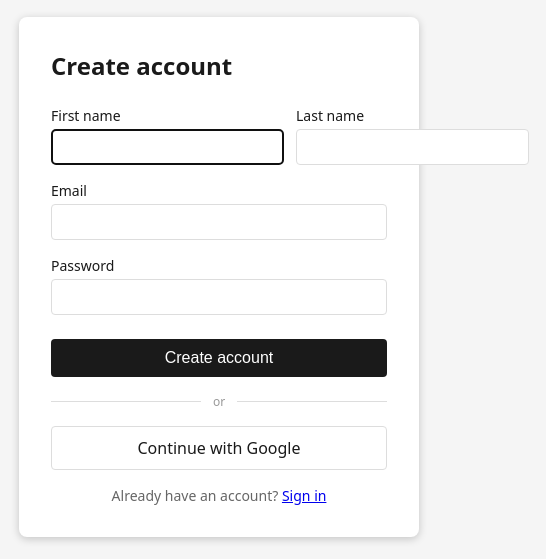
RegisterPage › shows a pending-confirmation panel after successful registration
Type "Alice" into the field labelled "First name". click: (168,147)
box: [51,129,284,165]
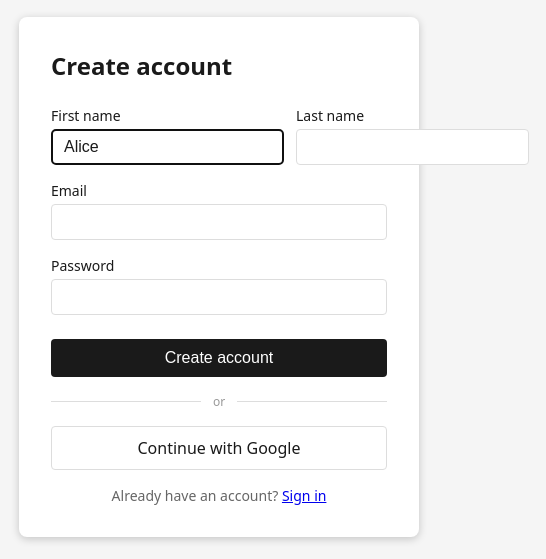
Type "Smith" into the field labelled "Last name". click: (412,147)
box: [296,129,529,165]
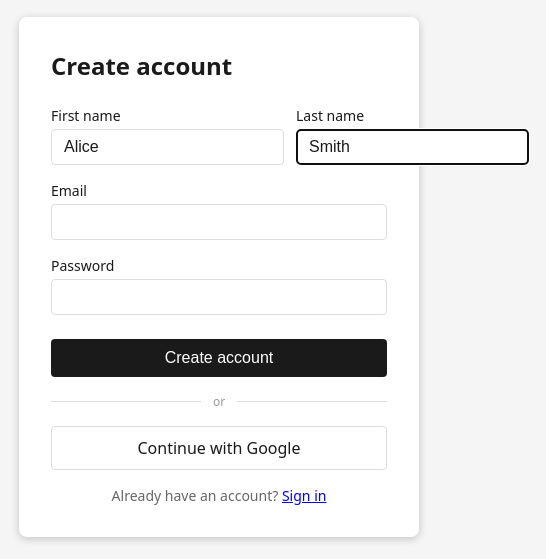
Type "a@b.com" into the field labelled "Email". click: (219,222)
box: [51,204,387,240]
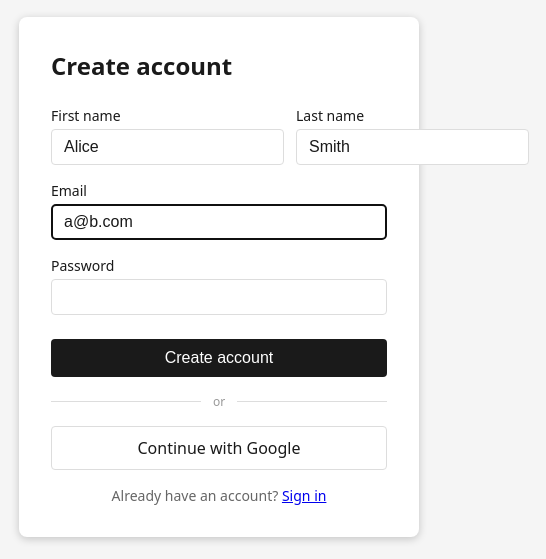
Type "password1" into the password field labelled "Password". click: (219,297)
box: [51,279,387,315]
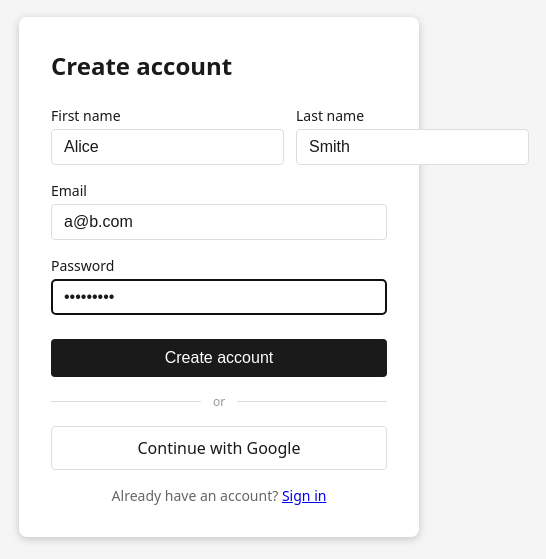
Click the button "Create account". click: (219,358)
box: [51,339,387,377]
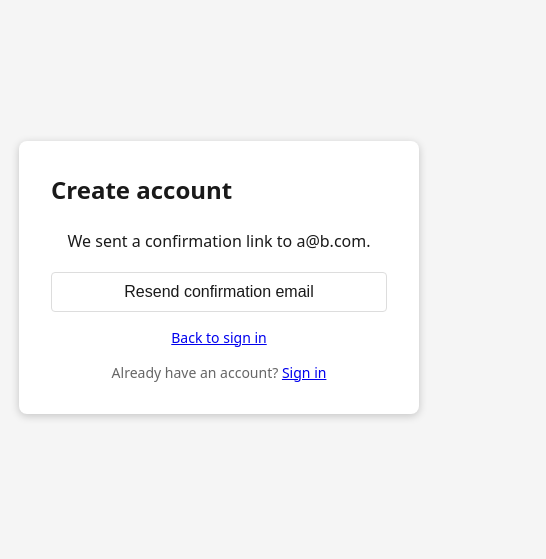
Result: the text "We sent a confirmation link to a@b.com." is shown at [51,230,387,252]
